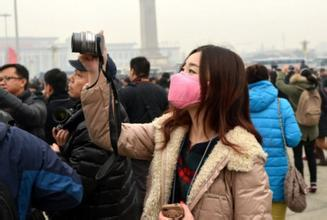NONE: (67, 71, 93, 100), (1, 71, 21, 95)
OK: (170, 61, 211, 106)
